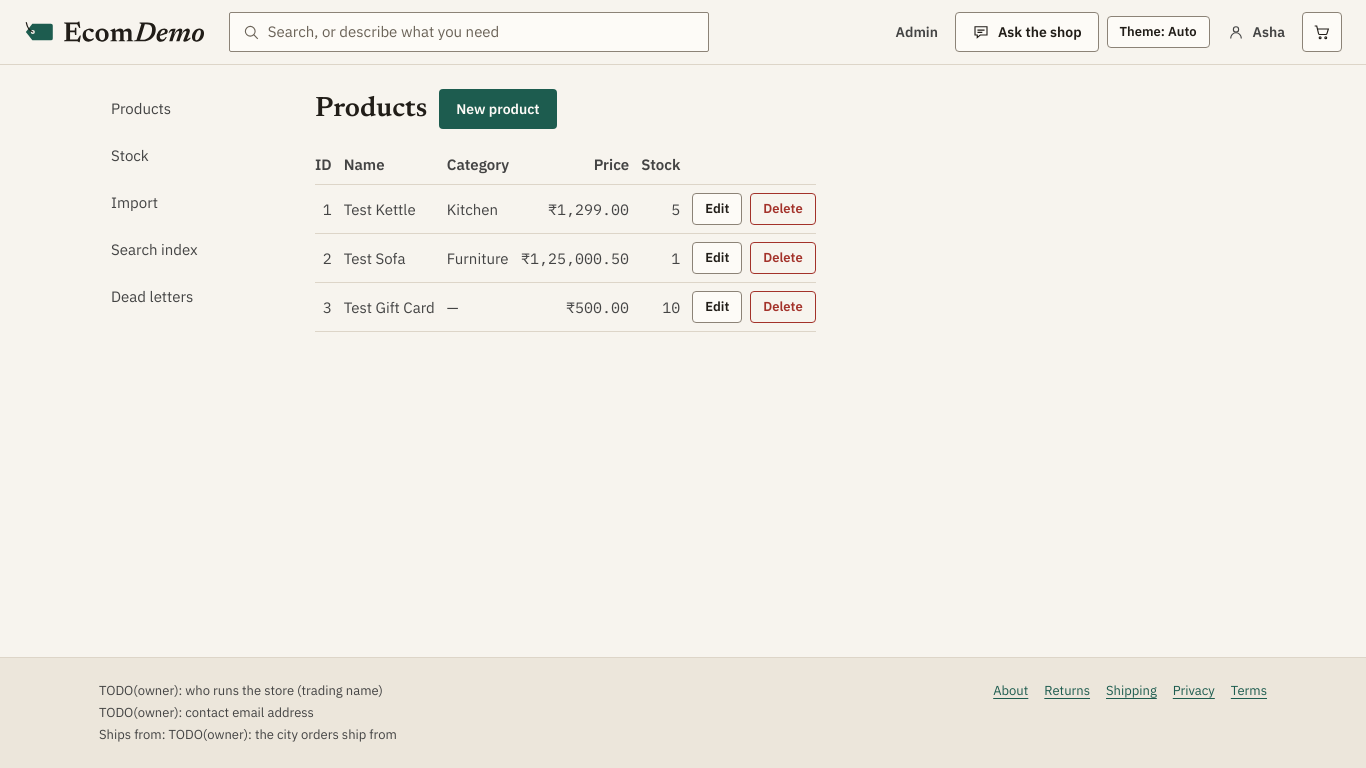
the admin product list › deletes only after the product name is typed
Click the button with aria-label "Delete Test Kettle": (783, 209) left=750, top=193, right=816, bottom=225
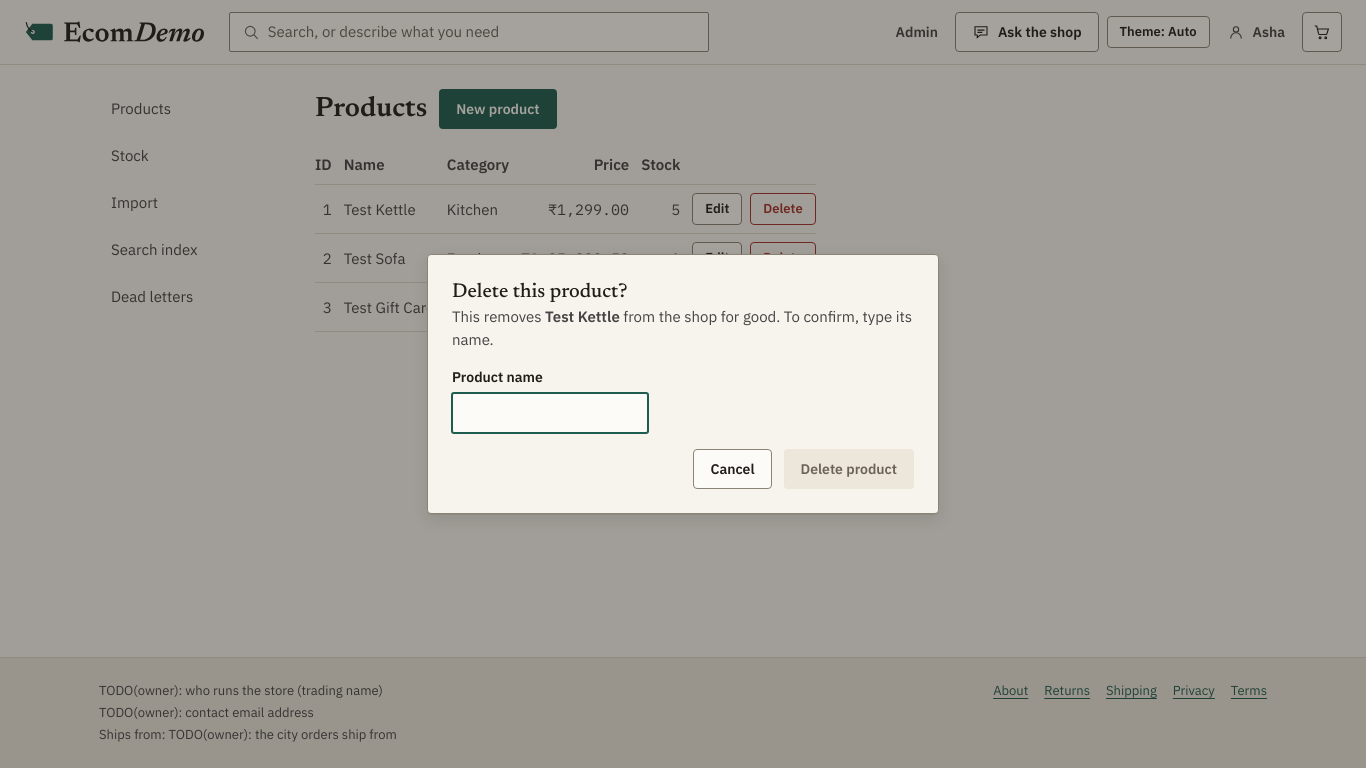
Now the button "Delete product" is disabled, box left=784, top=449, right=914, bottom=489
In the field labelled "Product name": (550, 413) left=465, top=394, right=635, bottom=432, type "Test Kett"
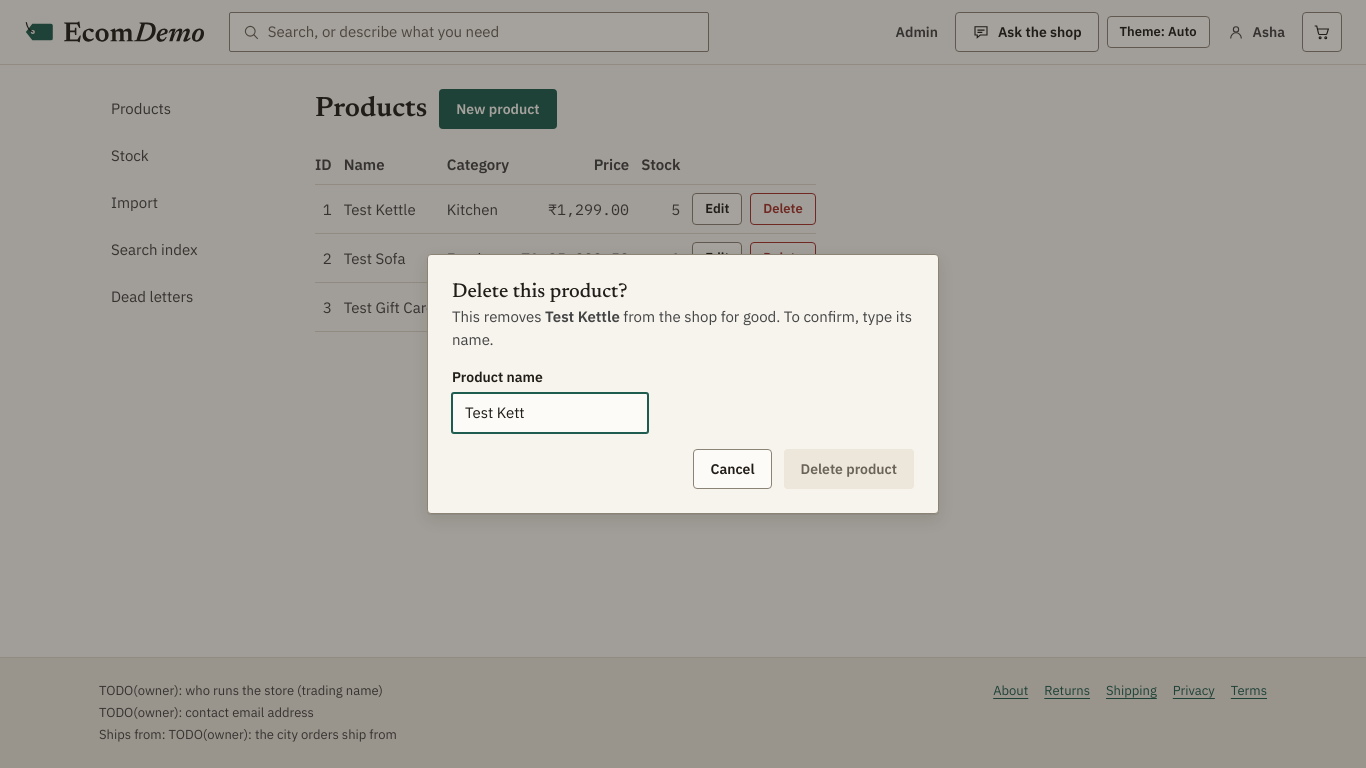
Now the button "Delete product" is disabled, box left=784, top=449, right=914, bottom=489
In the field labelled "Product name": (550, 413) left=465, top=394, right=635, bottom=432, type "le"
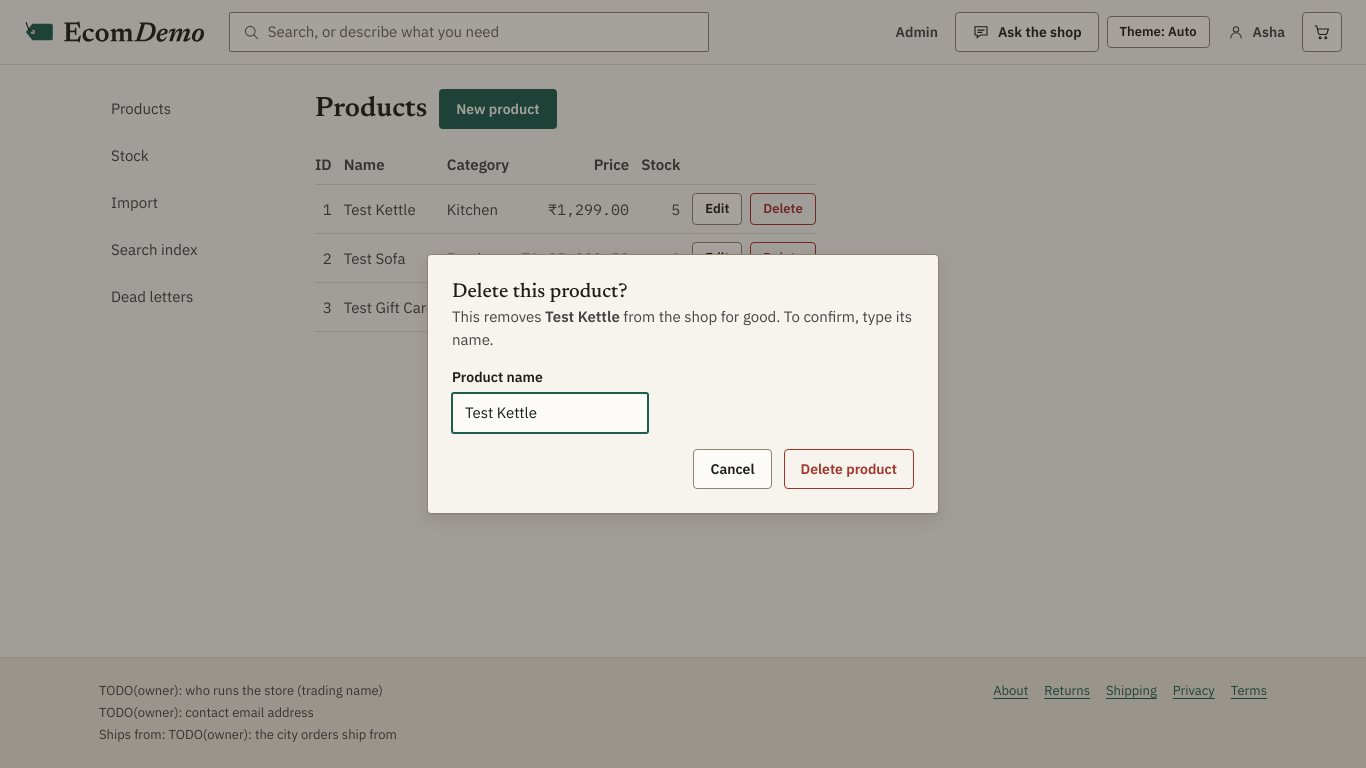
Now the button "Delete product" is enabled
Click the button "Delete product": (849, 469) left=784, top=449, right=914, bottom=489
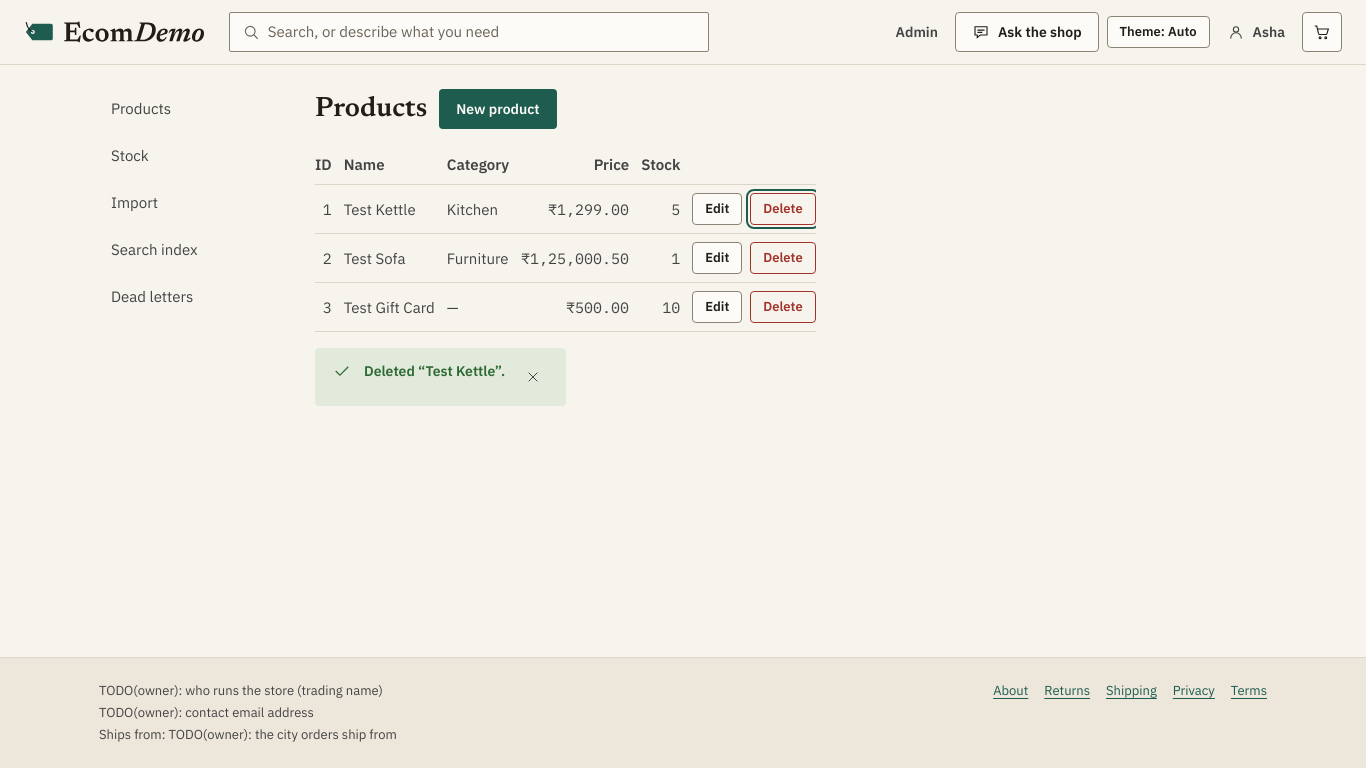
Now the text "Deleted “Test Kettle”." is shown, box left=364, top=361, right=505, bottom=381
